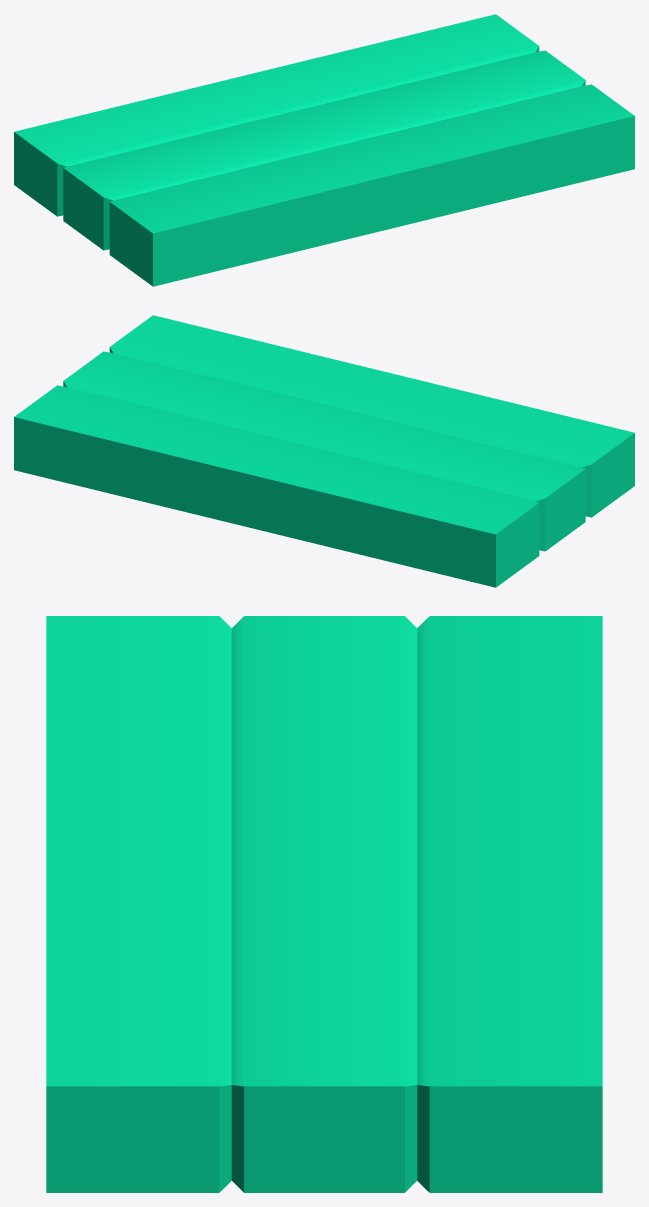
The model's file is Counter_Top_02_D_C03.fbx.
The picture shows the model from 3 angles, top to bottom: view 1: azimuth 30°, elevation 25°; view 2: azimuth 150°, elevation 25°; view 3: azimuth 270°, elevation 25°; orthographic projection. The views are drawn at different scales.
Parts seen in each view (by area): view 1: Counter_Top_02_D_C03; view 2: Counter_Top_02_D_C03; view 3: Counter_Top_02_D_C03.
Part boxes in pixels (x1=…): Counter_Top_02_D_C03: x1=14, y1=14, x2=634, y2=286; Counter_Top_02_D_C03: x1=14, y1=315, x2=634, y2=587; Counter_Top_02_D_C03: x1=46, y1=616, x2=602, y2=1192.
Bounding box in the file's own units: 200 × 21.09 × 100.
